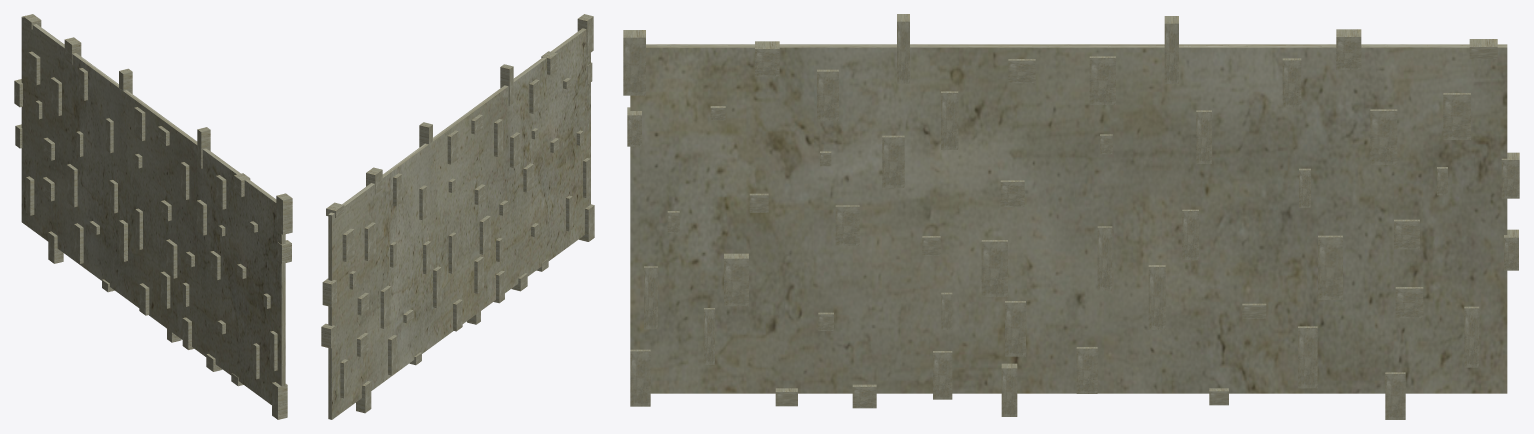
Rendered from asset_wall1 1.fbx.
3 views of the same model, side by side, from view 1: azimuth 30°, elevation 25°; view 2: azimuth 150°, elevation 25°; view 3: azimuth 270°, elevation 25° (orthographic). The views are drawn at different scales.
Visible parts, largest first — view 1: wall; view 2: wall; view 3: wall.
Boxes of the visible parts, box(x1,y1,x2,y2) form: wall: box(14, 14, 292, 419); wall: box(321, 14, 594, 419); wall: box(623, 14, 1519, 419).
Bounding box in the file's own units: 18.56 × 305 × 619.
Materials: 1 (1 with a texture image).
